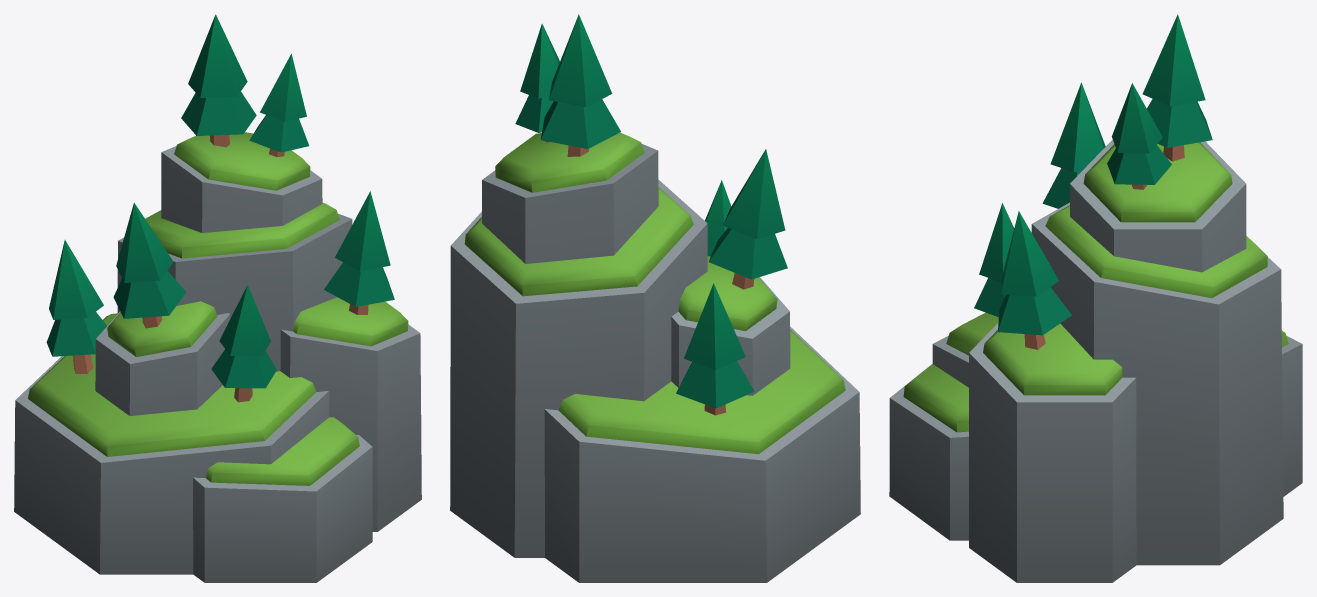
The model's file is mountain_b.glb.
3 views of the same model, side by side, from view 1: azimuth 30°, elevation 25°; view 2: azimuth 150°, elevation 25°; view 3: azimuth 270°, elevation 25° (orthographic). The views are drawn at different scales.
Visible parts, largest first — view 1: mountain_B_grass_trees; view 2: mountain_B_grass_trees; view 3: mountain_B_grass_trees.
Boxes of the visible parts, bbox=[...] form: mountain_B_grass_trees: bbox=[14, 14, 421, 582]; mountain_B_grass_trees: bbox=[450, 14, 860, 582]; mountain_B_grass_trees: bbox=[889, 14, 1302, 582].
Size of the model in its own units: 1.8 by 2.5 by 1.88.
Materials: 1 (1 with a texture image).
